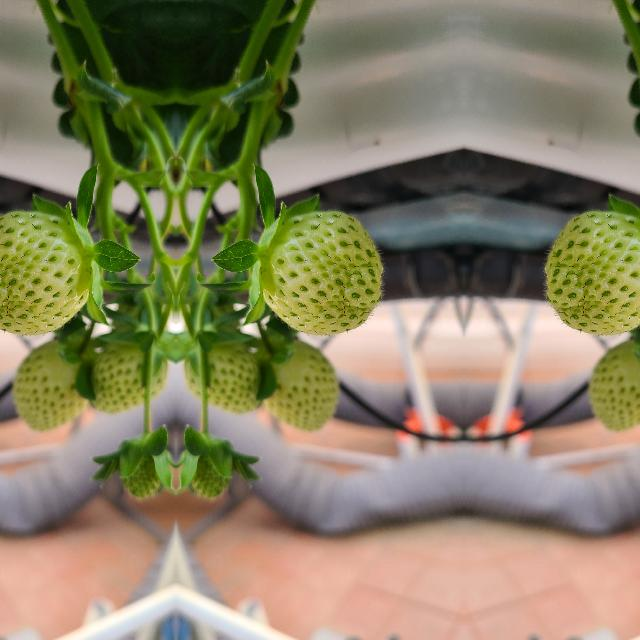Health_25: (259, 211, 381, 335), (545, 211, 640, 335), (0, 211, 91, 335), (257, 336, 341, 432), (9, 336, 93, 432), (185, 327, 262, 418), (88, 327, 164, 418), (585, 336, 640, 431)
